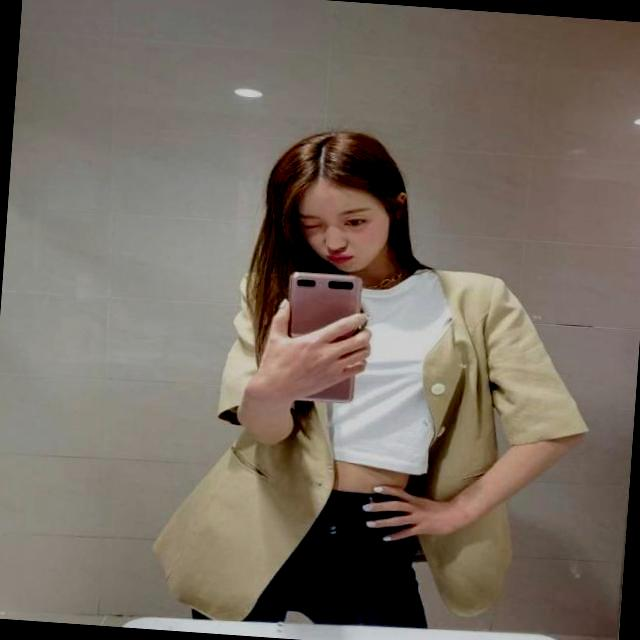lens: (298, 276, 357, 293)
phone: (273, 262, 367, 409)
